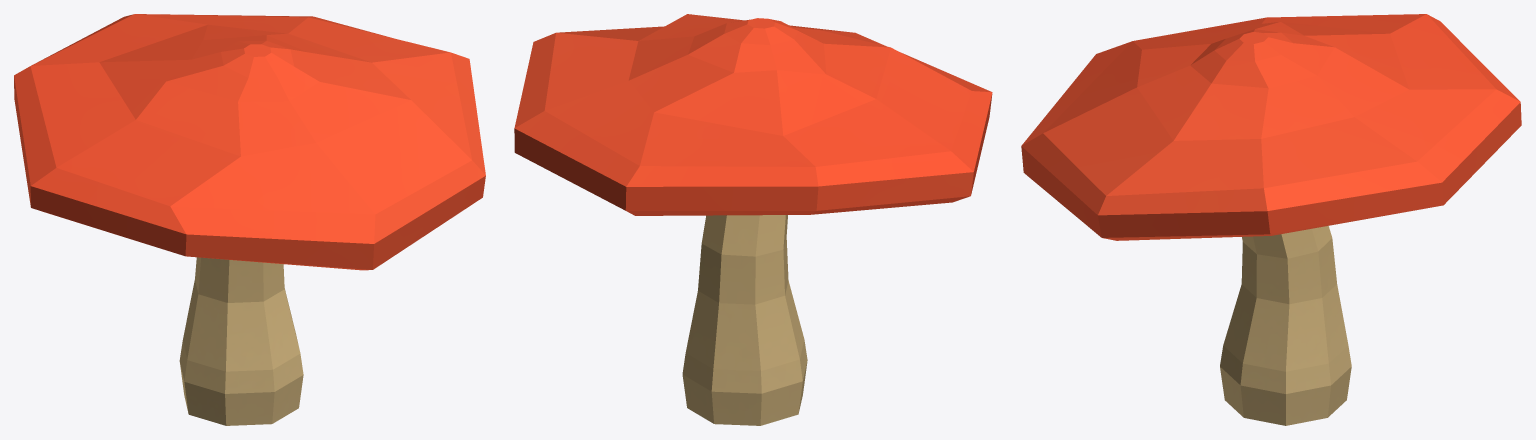
The model's file is mushroom.glb.
3 renders of one model, left to right at view 1: azimuth 30°, elevation 25°; view 2: azimuth 150°, elevation 25°; view 3: azimuth 270°, elevation 25°, orthographic.
Parts seen in each view (by area): view 1: mushroom; view 2: mushroom; view 3: mushroom.
Part boxes in pixels (x1=…): mushroom: x1=14, y1=14, x2=485, y2=425; mushroom: x1=514, y1=14, x2=992, y2=425; mushroom: x1=1021, y1=14, x2=1521, y2=425.
Bounding box in the file's own units: 0.2011 × 0.1597 × 0.1995.
1 material, 1 textured.
